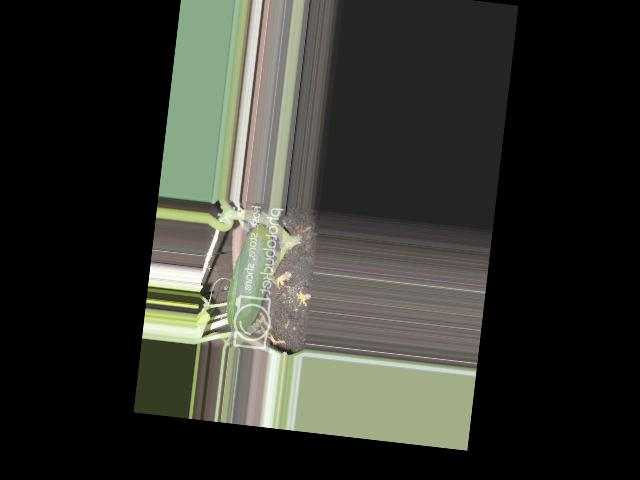cucumber: (224, 223, 275, 333)
